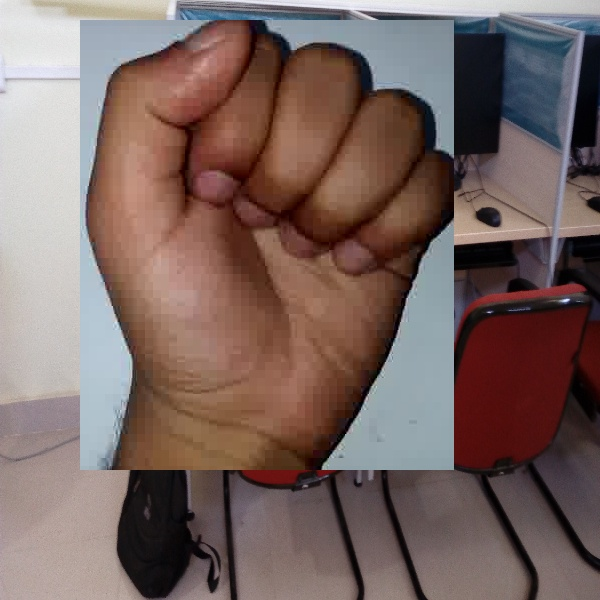A: (80, 20, 454, 470)
